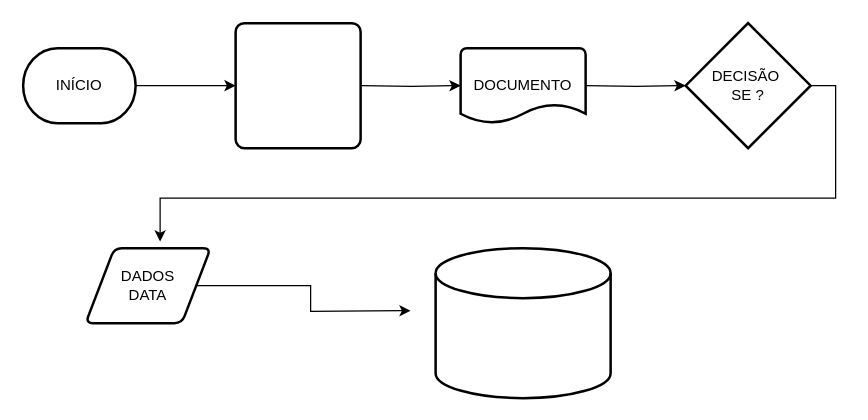
The diagram is 868 pixels wide and 420 high, and some of its shapes have lost their labels. The shapes that lost their labels are listed below. From the top down, each one's box as (x1, y1, x2, y2) in pixels, then its label:
(234, 21, 361, 149): PROCESSO
(434, 246, 611, 399): BANCO DE DADOS DATABSE
